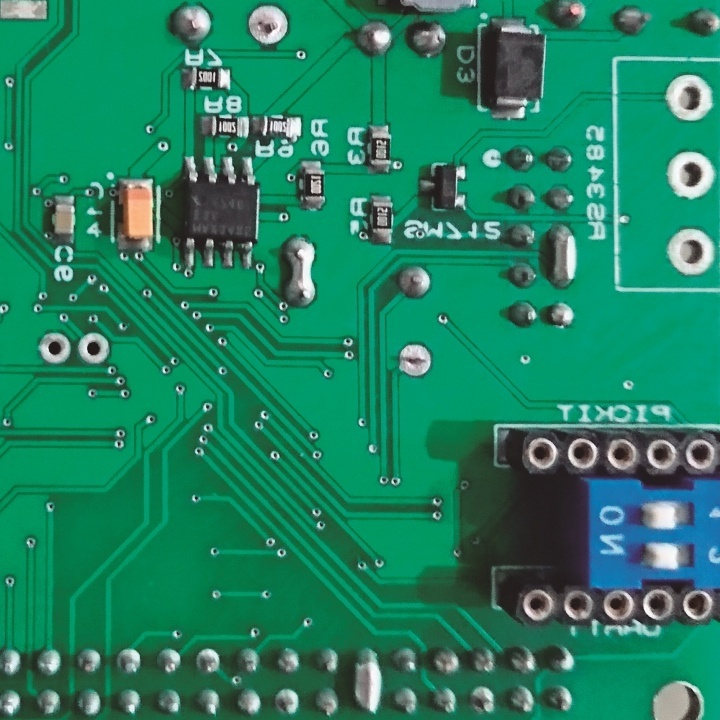F: (666, 146, 719, 207), (665, 224, 718, 282), (664, 71, 716, 126), (242, 1, 294, 51), (31, 326, 73, 366), (396, 339, 435, 382), (75, 329, 113, 367), (464, 682, 499, 718), (113, 643, 145, 679), (271, 686, 303, 718), (192, 645, 221, 677)
P: (281, 230, 320, 312), (544, 220, 584, 290), (350, 643, 386, 718)
